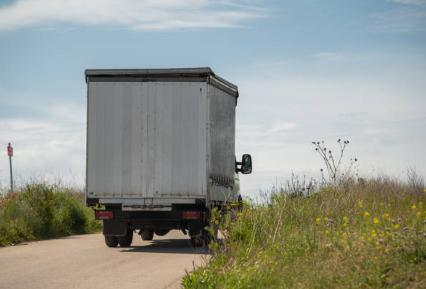vehicle: (85, 66, 252, 248)
